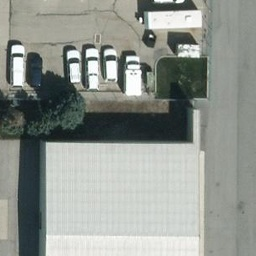car: (10, 46, 26, 86), (85, 47, 99, 90), (125, 56, 139, 95), (66, 49, 81, 83), (104, 51, 118, 82), (30, 56, 40, 88)
